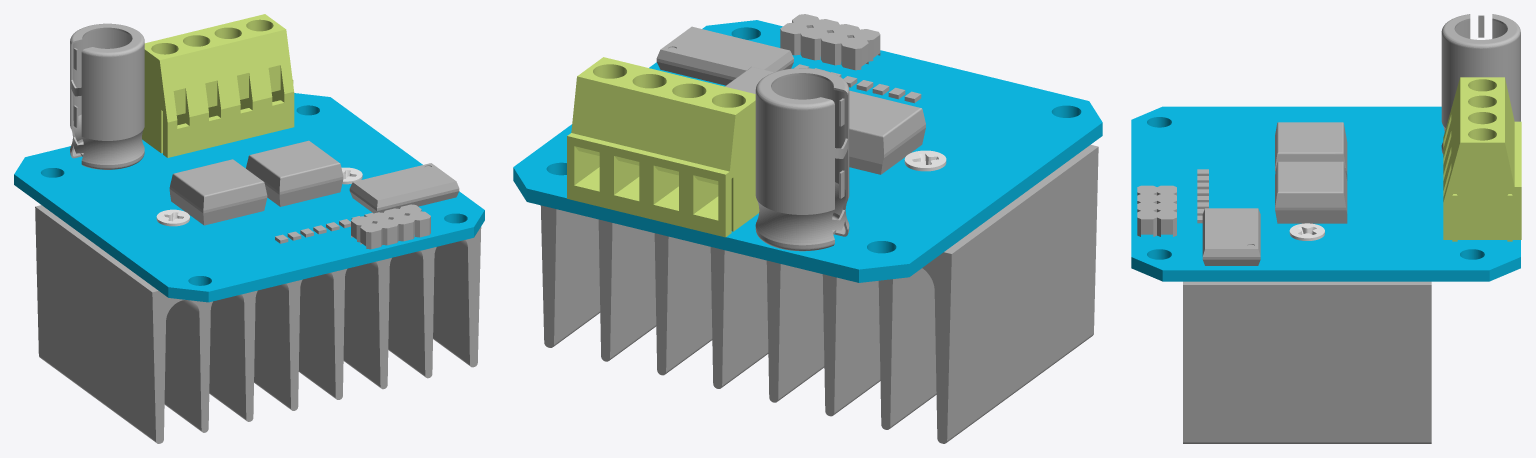
The model's file is bts.glb.
3 renders of one model, left to right at view 1: azimuth 30°, elevation 25°; view 2: azimuth 150°, elevation 25°; view 3: azimuth 270°, elevation 25°, orthographic. The views are drawn at different scales.
Parts seen in each view (by area): view 1: Node3, Node4, Node1, Node2; view 2: Node3, Node4, Node1, Node2; view 3: Node3, Node4, Node1, Node2.
Boxes of the visible parts, left/top/right/bottom form: Node3: left=35, top=23, right=481, bottom=443; Node4: left=14, top=93, right=484, bottom=302; Node1: left=142, top=14, right=294, bottom=157; Node2: left=156, top=167, right=362, bottom=226; Node3: left=540, top=14, right=1098, bottom=443; Node4: left=513, top=20, right=1102, bottom=282; Node1: left=567, top=57, right=759, bottom=237; Node2: left=904, top=150, right=946, bottom=171; Node3: left=1137, top=14, right=1520, bottom=443; Node4: left=1131, top=106, right=1520, bottom=281; Node1: left=1443, top=77, right=1521, bottom=241; Node2: left=1289, top=223, right=1324, bottom=240.
Size of the model in its own units: 51.5 by 42 by 49.9.
